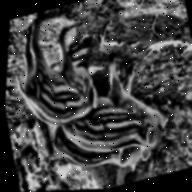boar: (40, 40, 192, 171), (3, 0, 120, 139)
